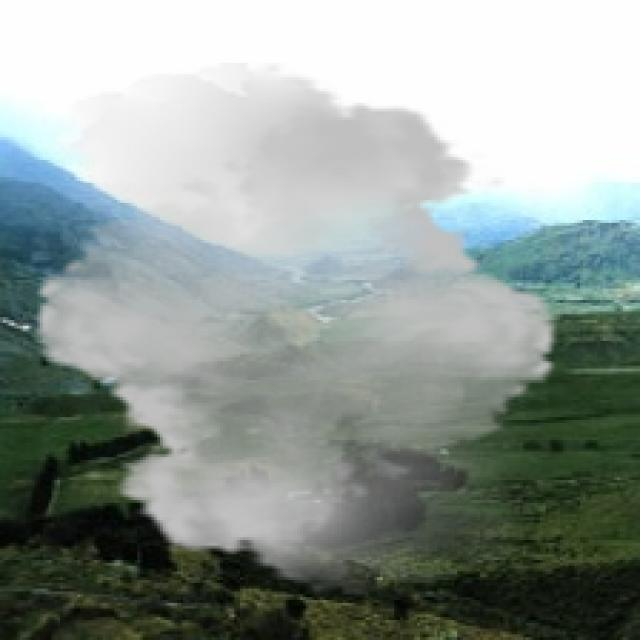Smoke: (11, 62, 580, 594)
